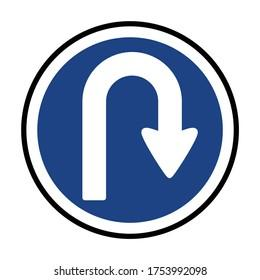Right Hair Pin Bend: (21, 19, 241, 244)
